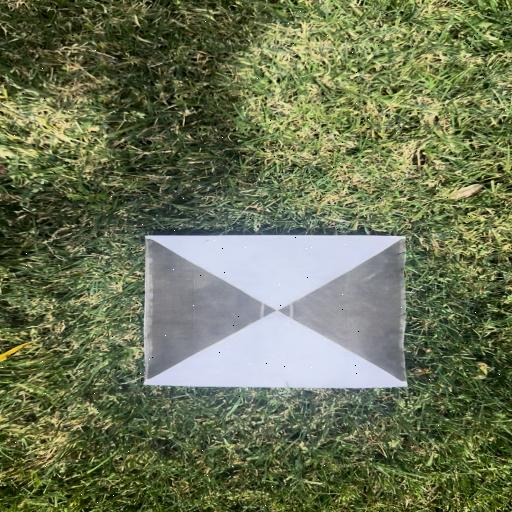target: (147, 235, 409, 388)
